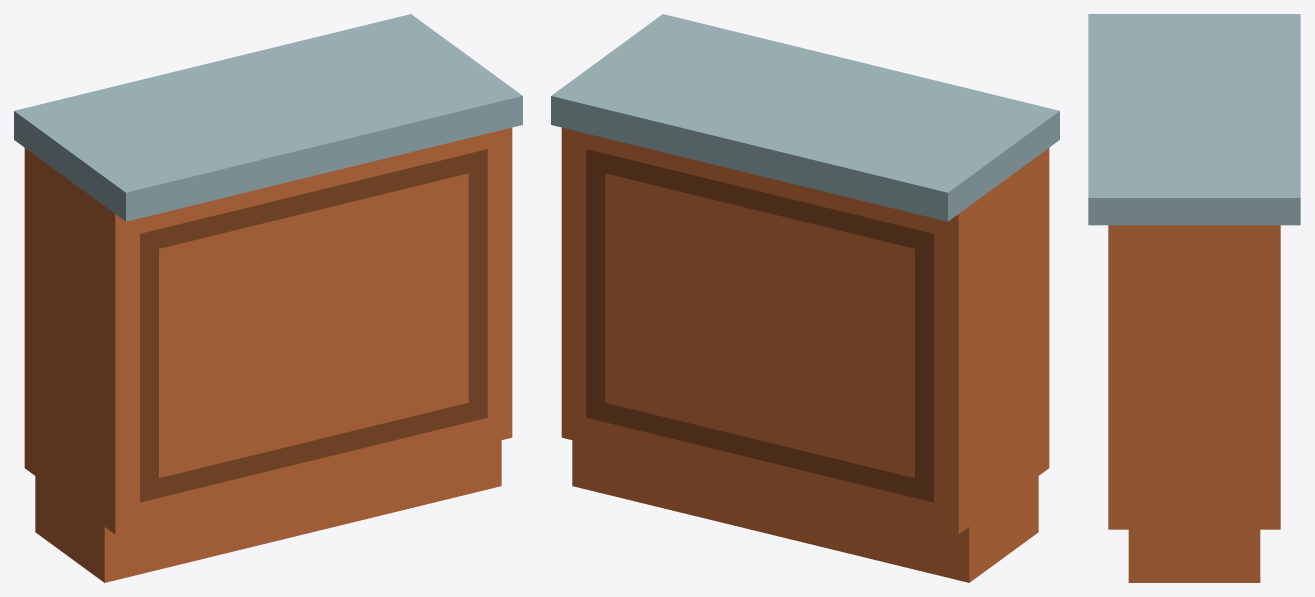
The model's file is kitchenBar.glb.
The picture shows the model from 3 angles, left to right: view 1: azimuth 30°, elevation 25°; view 2: azimuth 150°, elevation 25°; view 3: azimuth 270°, elevation 25°; orthographic projection. The views are drawn at different scales.
Visible parts, largest first — view 1: kitchenBar(Clone); view 2: kitchenBar(Clone); view 3: kitchenBar(Clone).
Boxes of the visible parts, x1=… form: kitchenBar(Clone): x1=14, y1=14, x2=522, y2=582; kitchenBar(Clone): x1=551, y1=14, x2=1059, y2=582; kitchenBar(Clone): x1=1088, y1=14, x2=1300, y2=582.
Bounding box in the file's own units: 0.43 × 0.42 × 0.21.
Materials: 3 (3 with a texture image).
